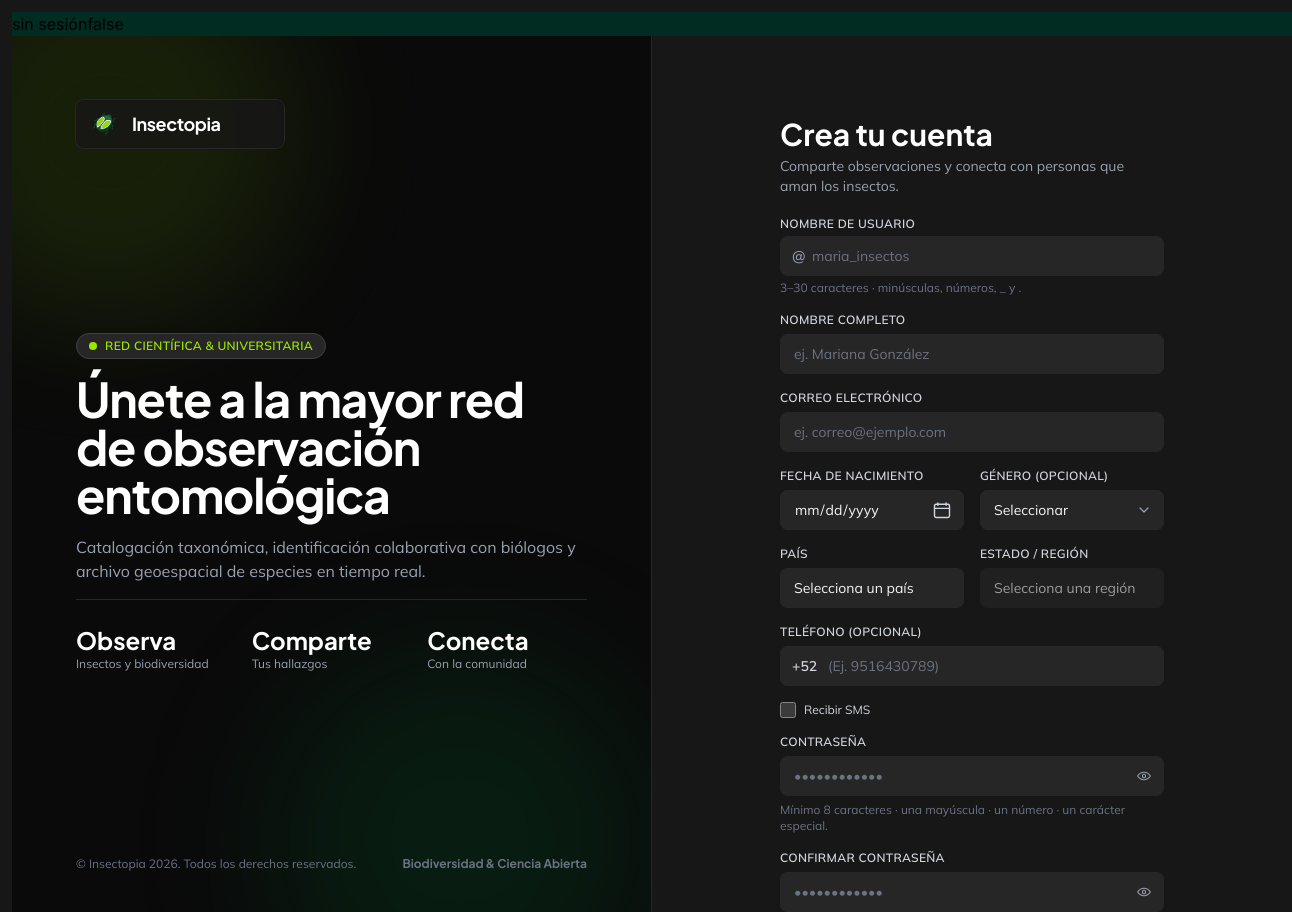
Scenario: pantalla de registro › bloquea regiones no verificadas si el catálogo las devuelve vacías
The width and height of the screenshot is (1292, 912).
Step 1. Select "Argentina" in the dropdown labelled "País" → point(872, 588), box [780,568,964,608]
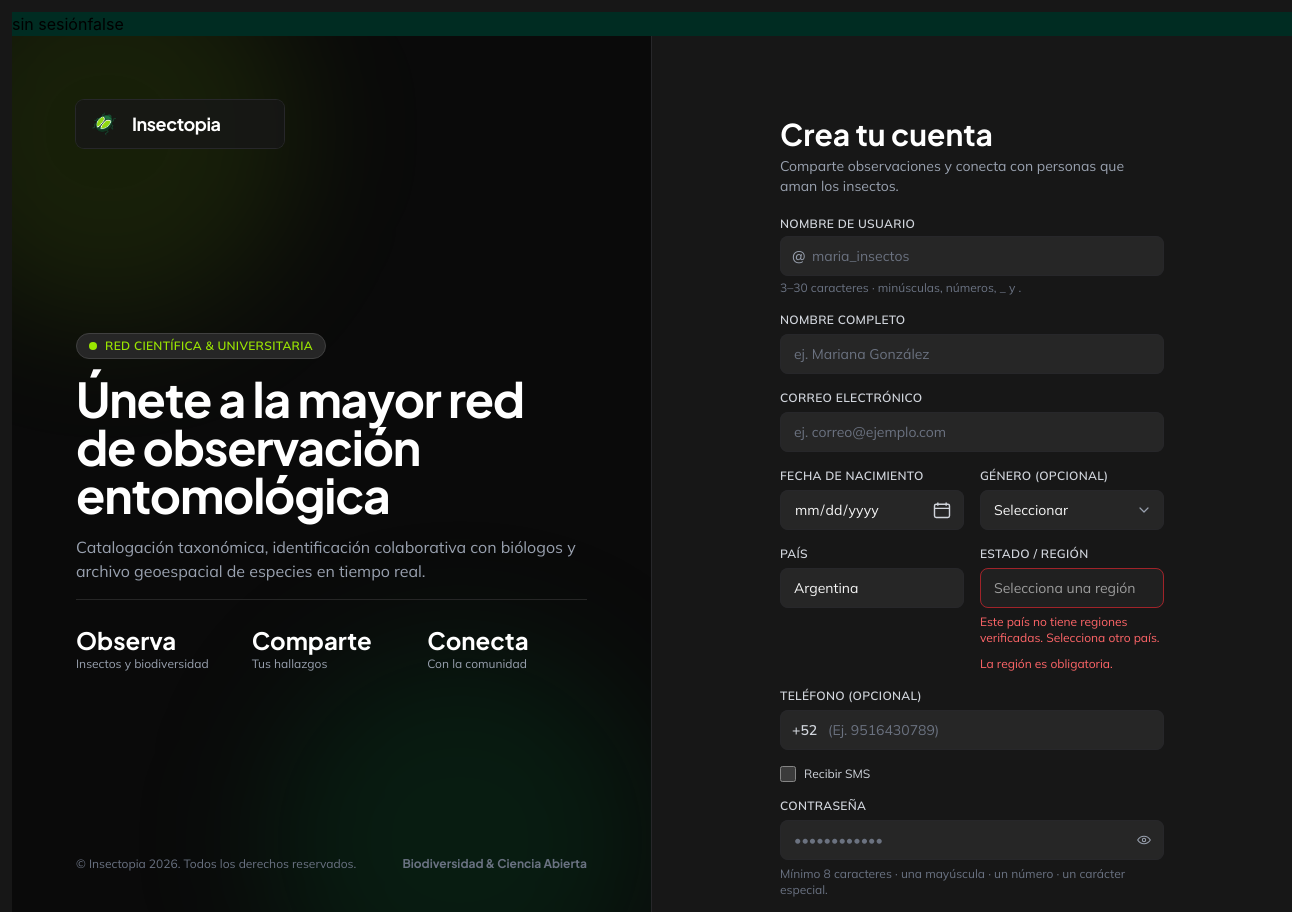
Expected: the dropdown labelled "Estado / Región" is disabled, [980,568,1164,608]
Result: the text "Este país no tiene regiones verificadas. Selecciona otro país." is shown at [980,614,1164,646]
